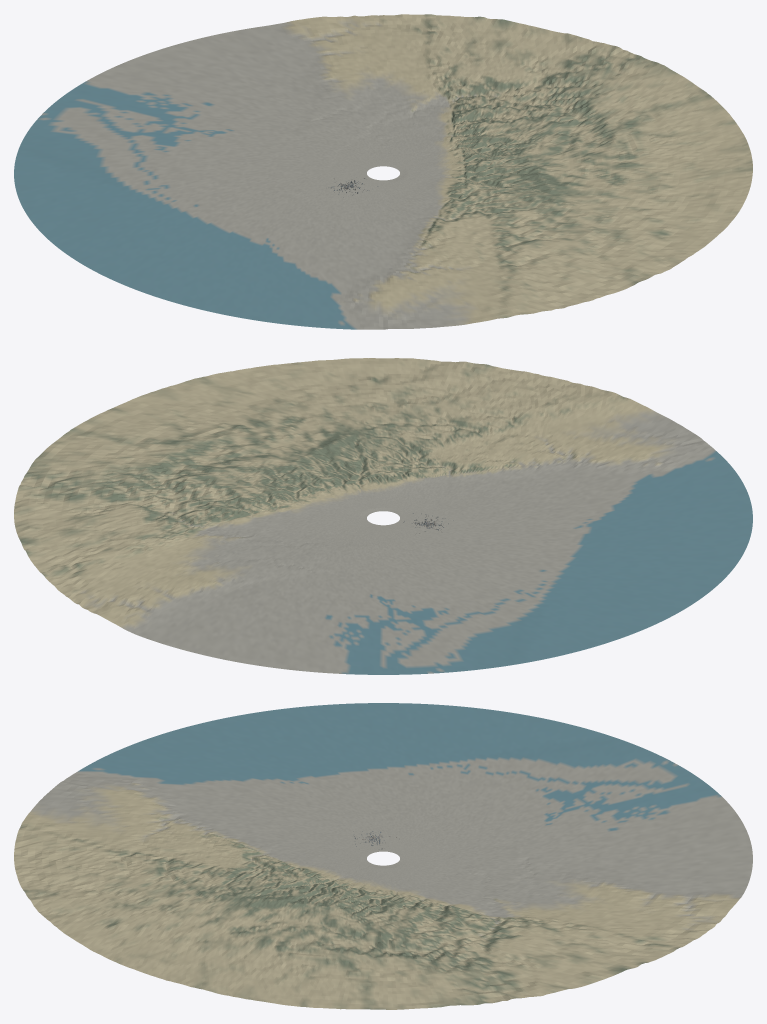
Rendered from norwood_backdrop.glb.
3 renders of one model, top to bottom at view 1: azimuth 30°, elevation 25°; view 2: azimuth 150°, elevation 25°; view 3: azimuth 270°, elevation 25°, orthographic.
Parts seen in each view (by area): view 1: land; view 2: land; view 3: land.
Boxes of the visible parts, <box> form: land: <box>14,14,752,329</box>; land: <box>14,358,752,674</box>; land: <box>14,703,752,1009</box>.
Bounding box in the file's own units: 44000 × 690 × 44000.
